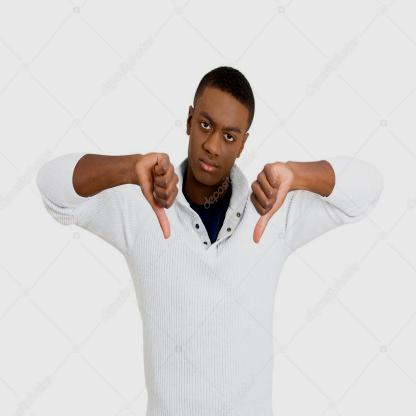Thumbs Down: (128, 135, 188, 248), (253, 143, 288, 250)
